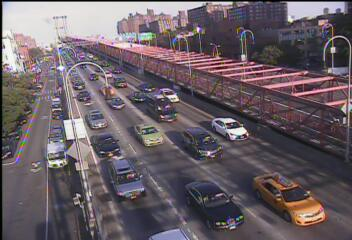neg: (24, 151, 45, 178)
